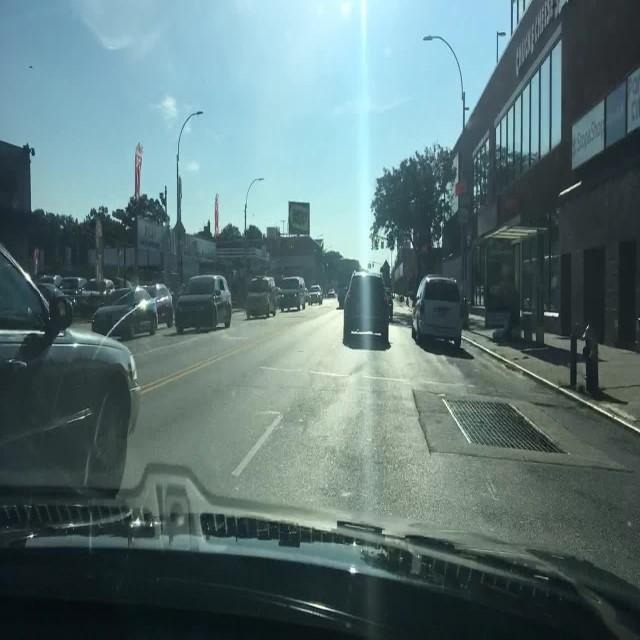normal: (82, 275, 232, 345), (410, 260, 475, 360), (341, 259, 397, 355), (246, 268, 324, 327)
